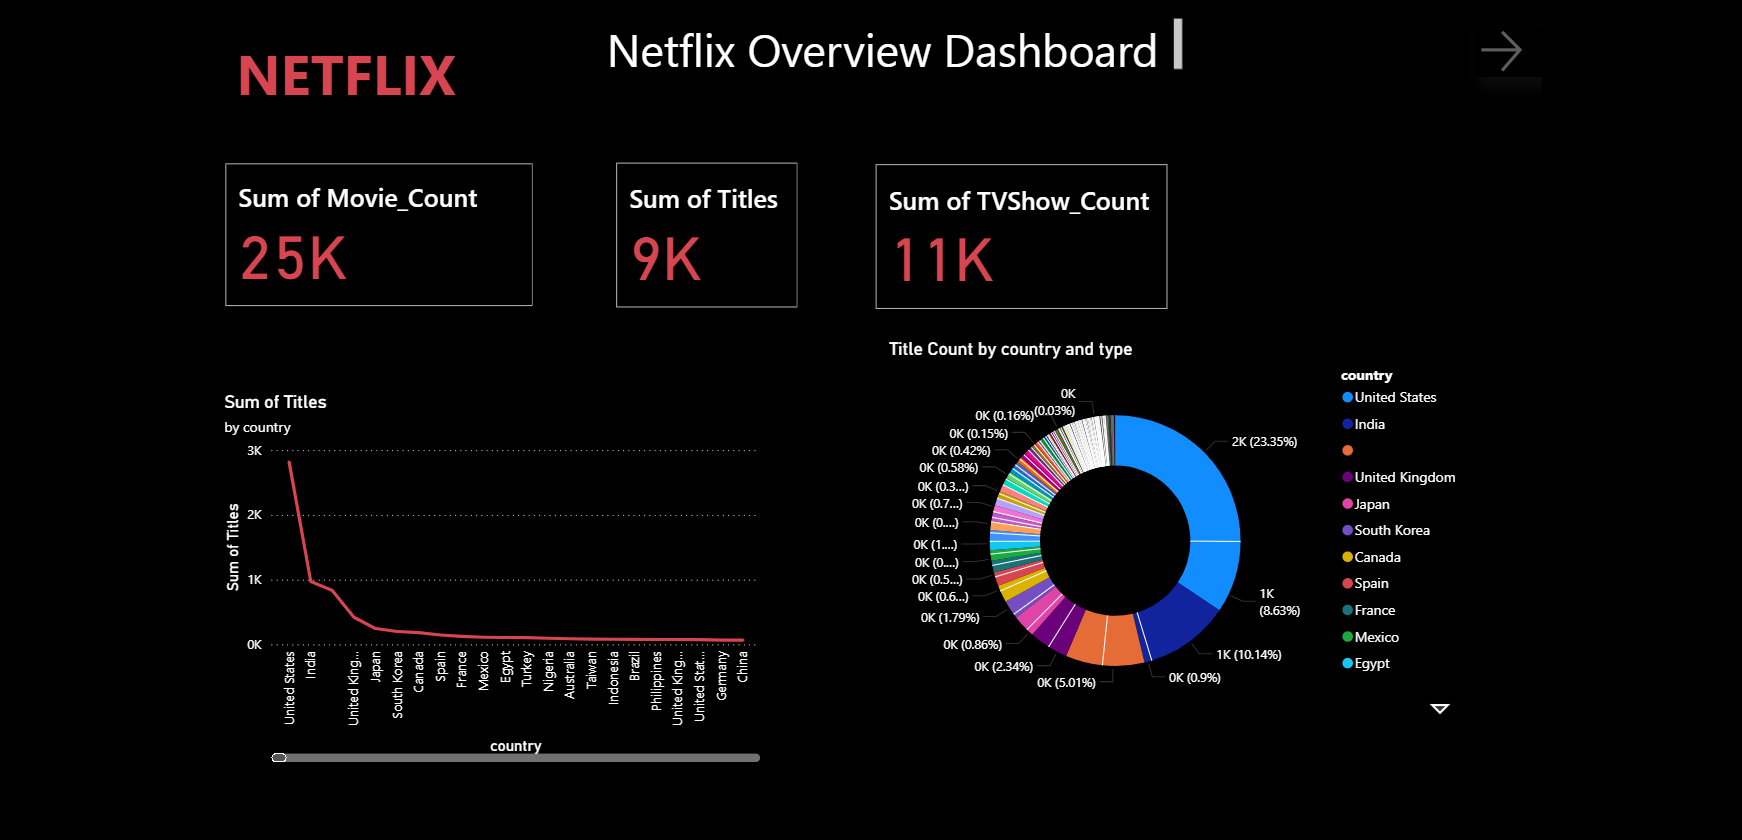

Layout of this report page (visuals, bound fields, positions):
{"tool":"powerbi","page":{"name":"Netflix Overview","canvas":[1280,720],"ordinal":0},"visuals":[{"type":"textbox","box":[370,0,572,62],"z":0},{"type":"textbox","box":[32,16,236,90],"z":1000},{"type":"cardVisual","fields":{"Data":["Sum(netflix_titles.Titles)"]},"box":[393.3,136.7,183.3,148.3],"z":2000},{"type":"donutChart","fields":{"Category":["netflix_titles.country"],"Y":["netflix_titles.Title Count"],"Series":["netflix_titles.type"]},"box":[653.3,310,626.7,365],"z":4000},{"type":"lineChart","fields":{"Category":["netflix_titles.country"],"Y":["Sum(netflix_titles.Titles)"]},"box":[20,360,520,358.3],"z":5000},{"type":"cardVisual","fields":{"Data":["Sum(CountTypes.TVShow_Count)"]},"box":[640,138.3,288.3,148.3],"z":6000},{"type":"cardVisual","fields":{"Data":["Sum(CountTypes.Movie_Count)"]},"box":[20,136.7,305,148.3],"z":6001},{"type":"actionButton","box":[1215,11.7,65,50],"z":6002}]}

Visuals, with their boxes on the page's 1280x720 design canvas (x1, y1, x2, y2). These are canvas units, not pixel positions in the 1742x840 screenshot, which may show the page scaled, cropped or inside an application window:
textbox: (370, 0, 942, 62)
textbox: (32, 16, 268, 106)
cardVisual - Sum(netflix_titles.Titles): (393, 137, 577, 285)
donutChart - netflix_titles.country x netflix_titles.Title Count: (653, 310, 1280, 675)
lineChart - netflix_titles.country x Sum(netflix_titles.Titles): (20, 360, 540, 718)
cardVisual - Sum(CountTypes.TVShow_Count): (640, 138, 928, 287)
cardVisual - Sum(CountTypes.Movie_Count): (20, 137, 325, 285)
actionButton: (1215, 12, 1280, 62)
